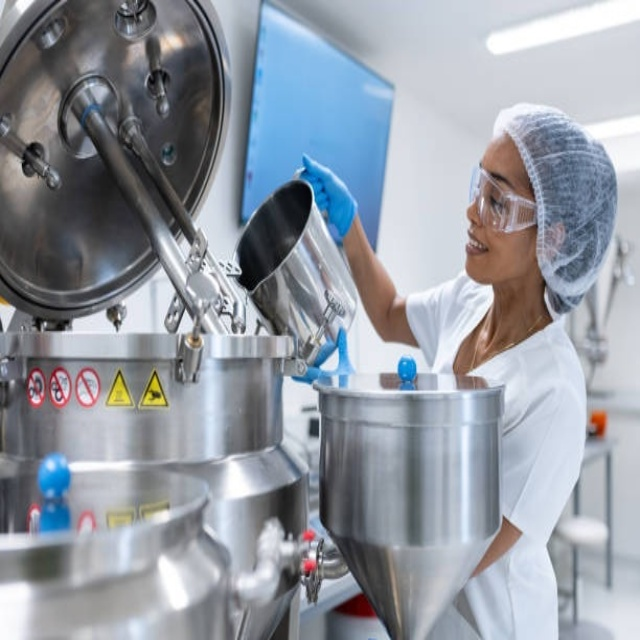Gafas: (469, 164, 539, 234)
Guantes: (299, 153, 357, 243)
Sin_mascara: (463, 226, 495, 276)
